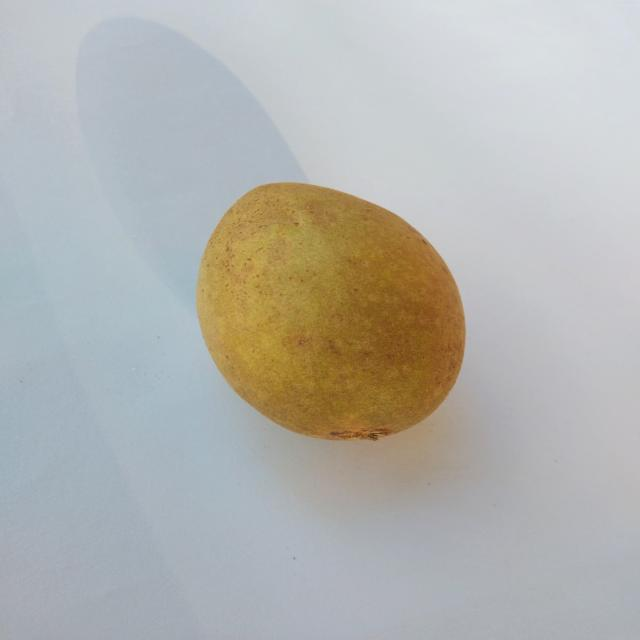mentah: (193, 179, 468, 447)
